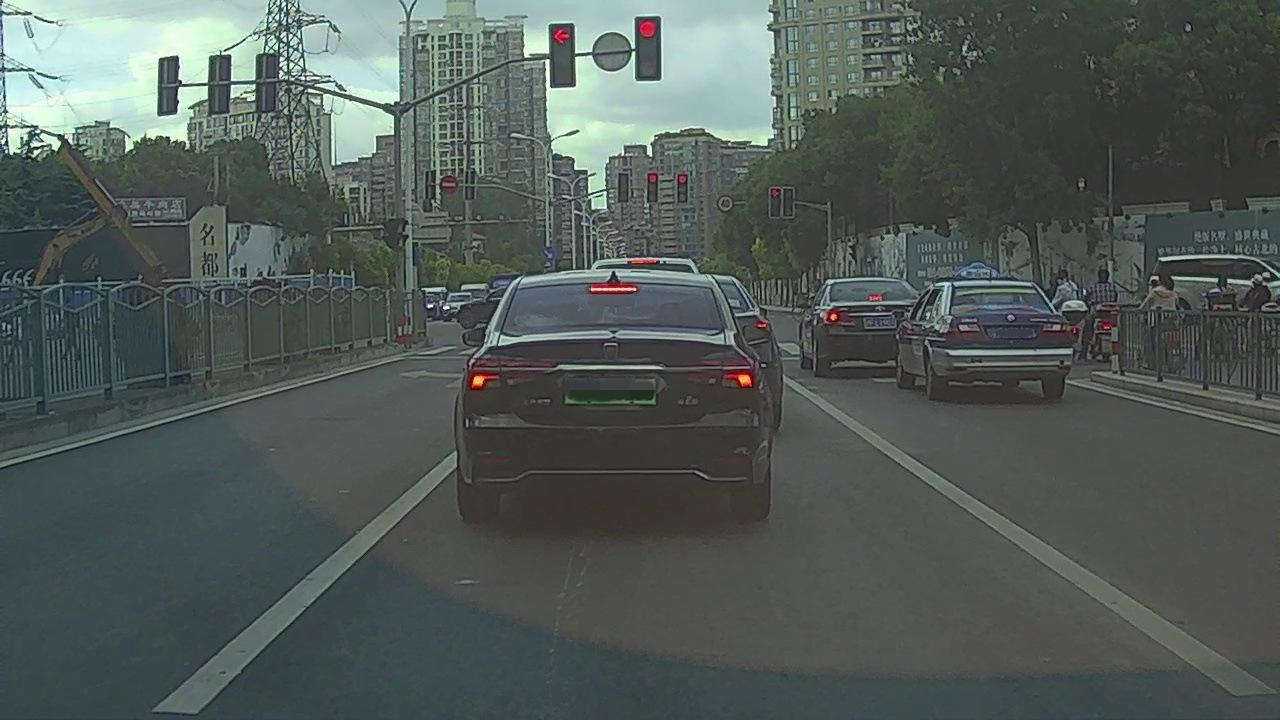traffic_light: (548, 25, 576, 88), (637, 16, 659, 80), (769, 188, 781, 218), (783, 188, 794, 217), (677, 174, 688, 202), (618, 173, 629, 201), (648, 174, 656, 202)
